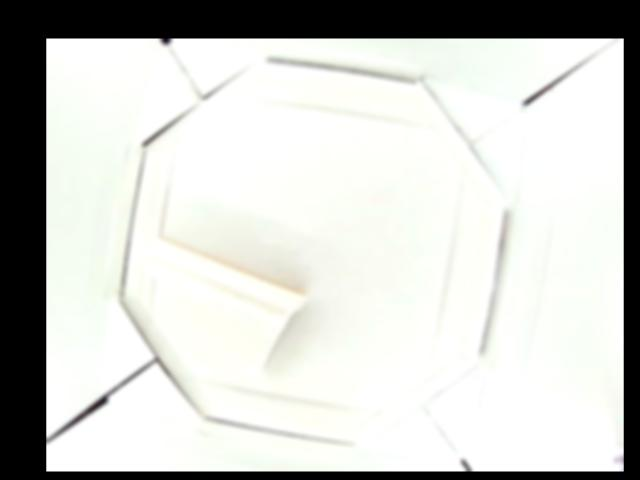China: (141, 237, 309, 373)
